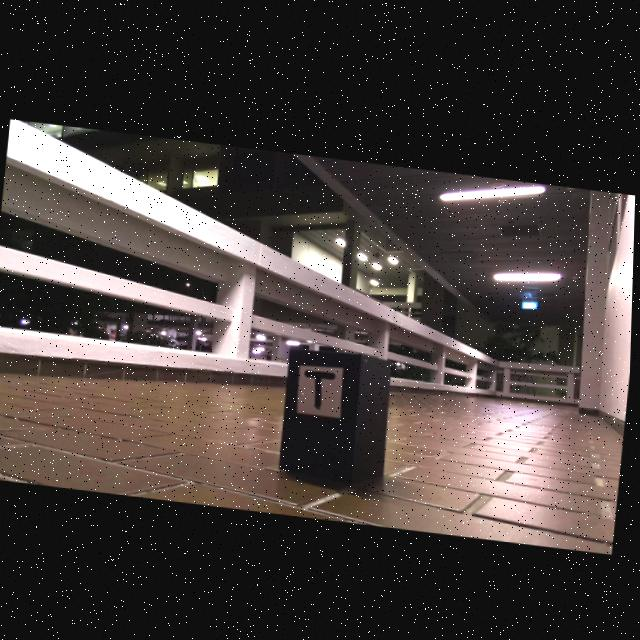T: (307, 367, 338, 404)
